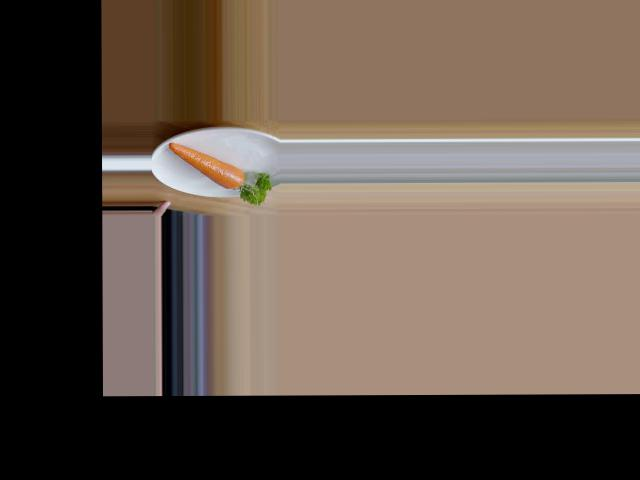carrot: (165, 141, 252, 193)
